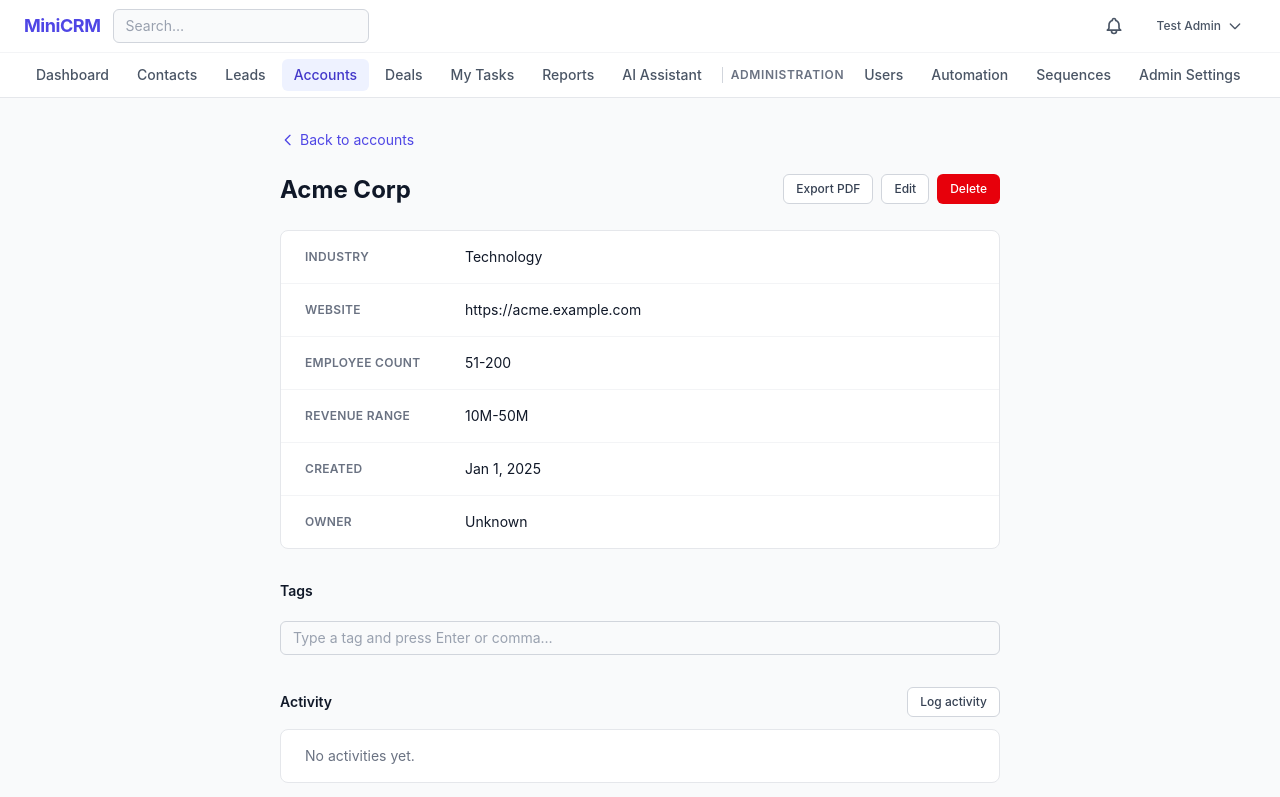
Test: AccountDetailPage › renders the owner select immediately when the edit form opens, even if the active users query is still loading
Click the button with test id "edit-account-button": (905, 189) [881,174,929,204]
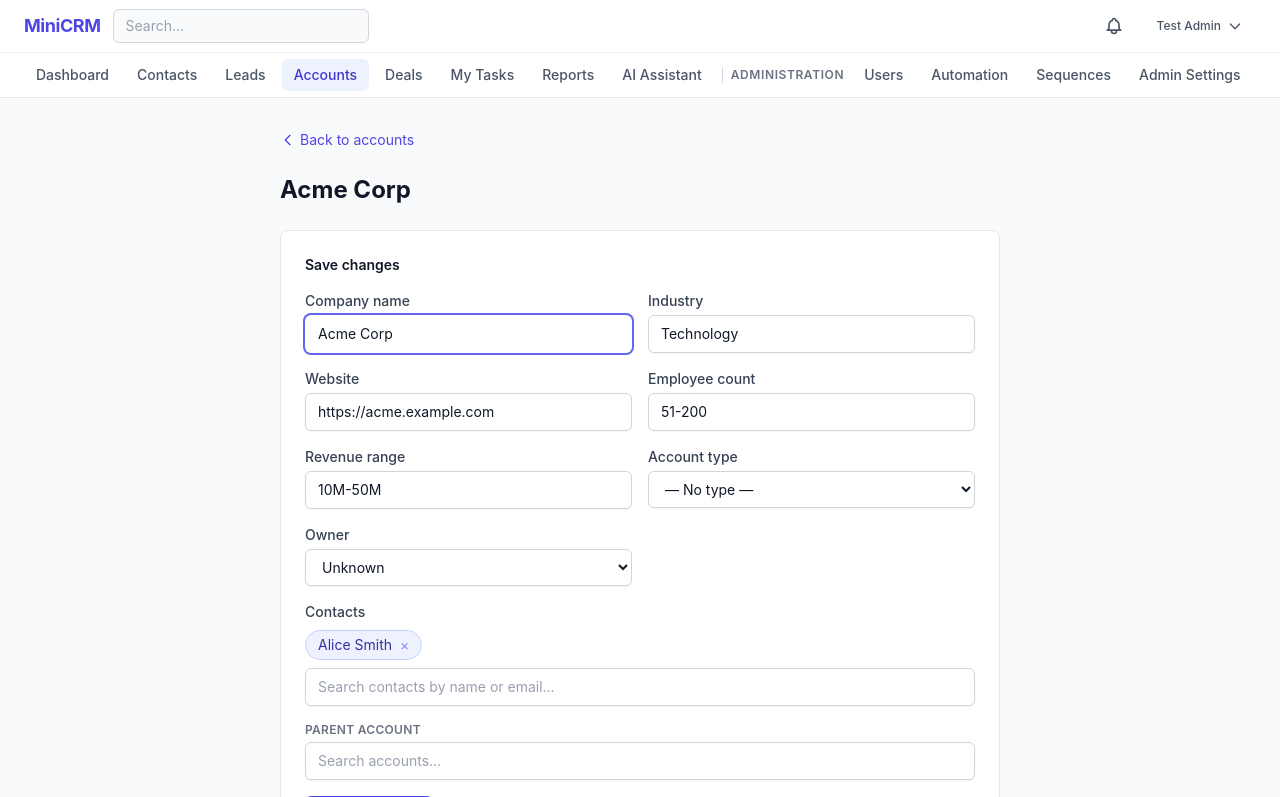
Expected: the dropdown with test id "account-owner-select" shows "Unknown", [305,549,632,586]
